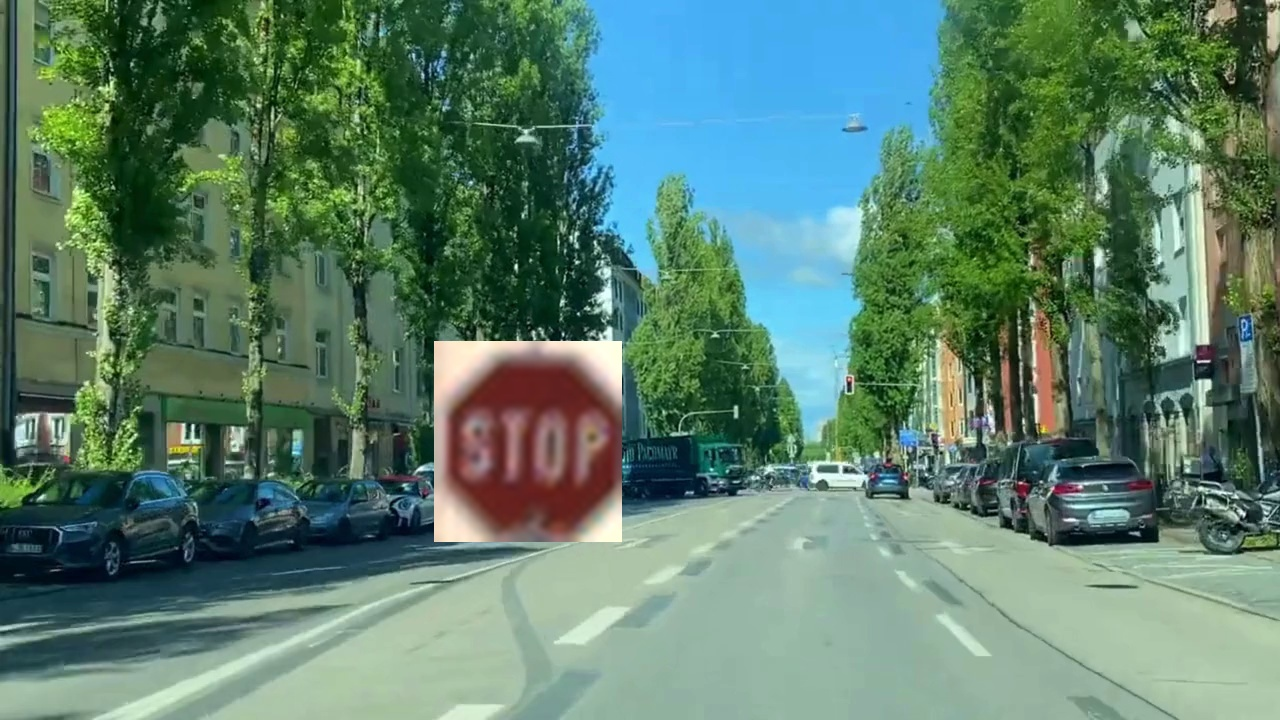Stop: (434, 341, 622, 542)
